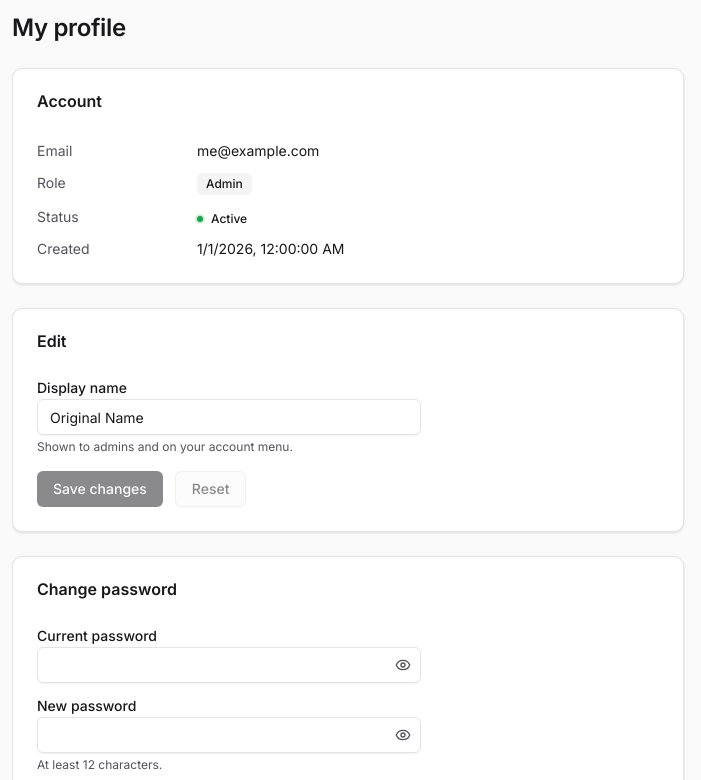
Test: ProfileEditor › renders the API detail message when saving the profile fails
Replace the text in the field labelled "Display name" with "Taken" at (229, 417), box 37,399 -> 421,435
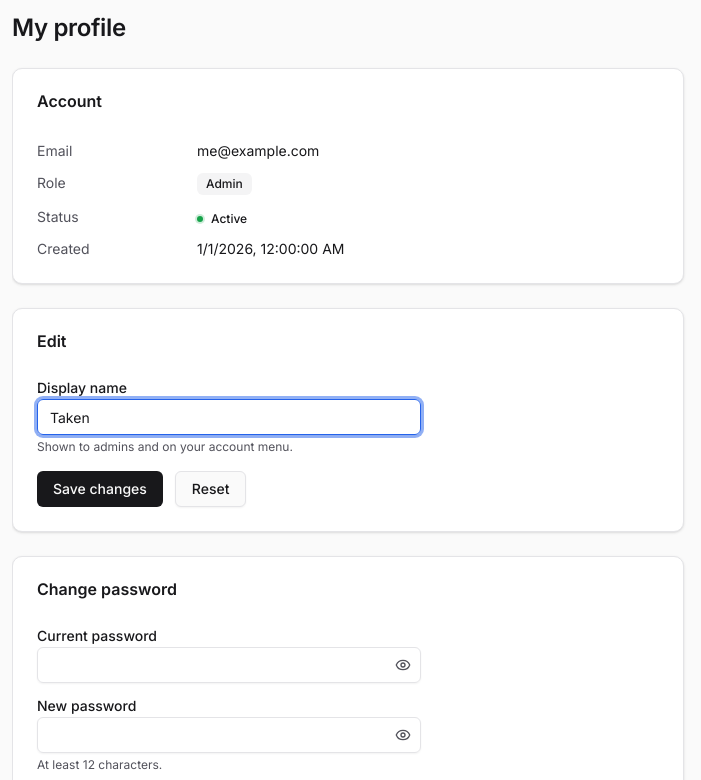
Click the button "Save changes".
click(100, 489)  # box 37,471 -> 163,507
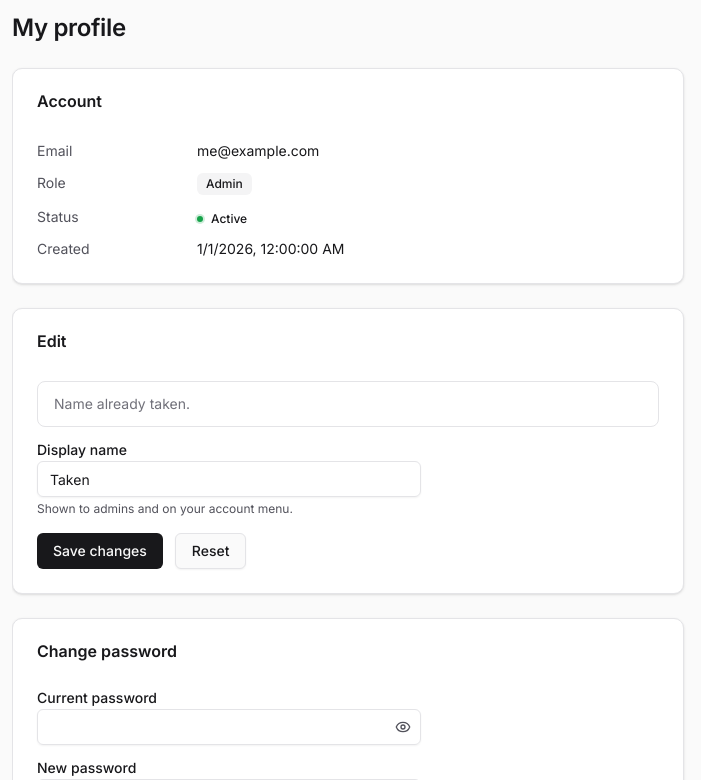
Expected: the text "Name already taken." is shown, 54,395 -> 190,412
